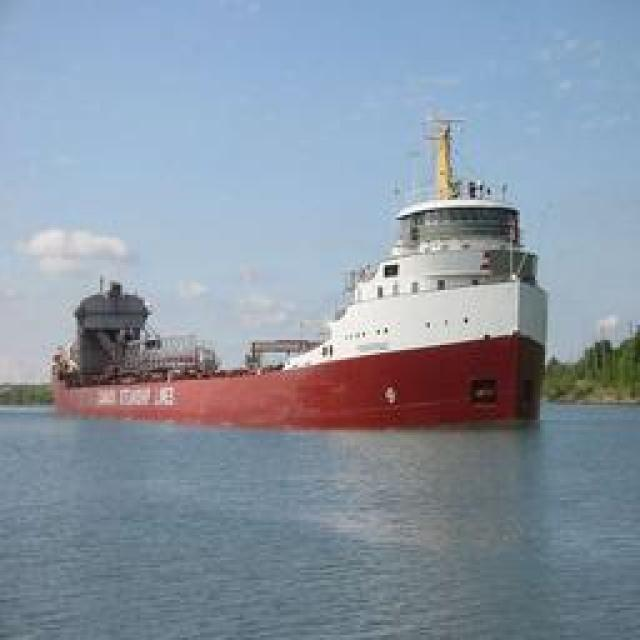Ship: (32, 150, 554, 433)
